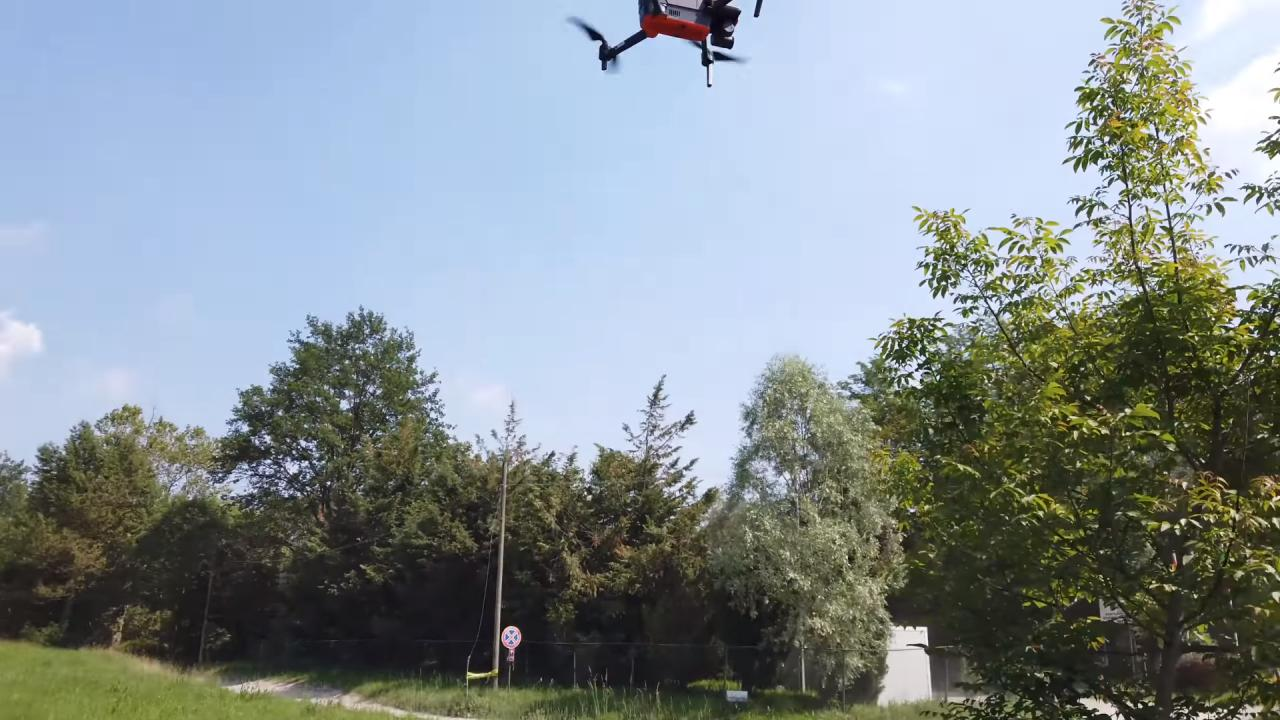Drone: (550, 0, 790, 102)
